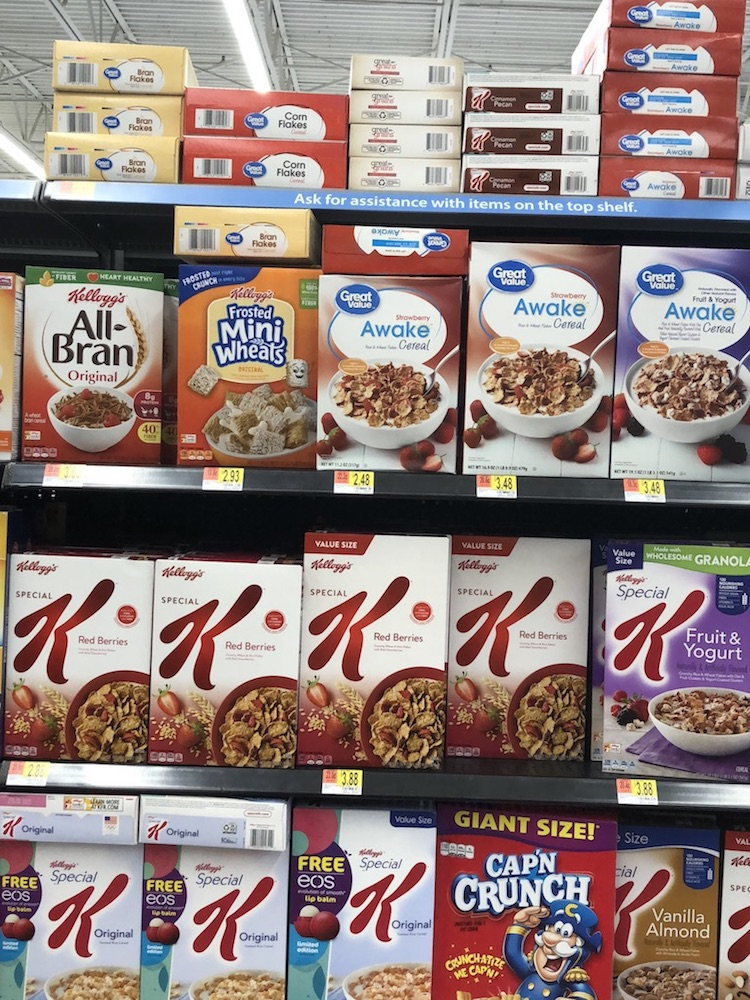Frosted Mini Original -9295869: (177, 258, 320, 471)
